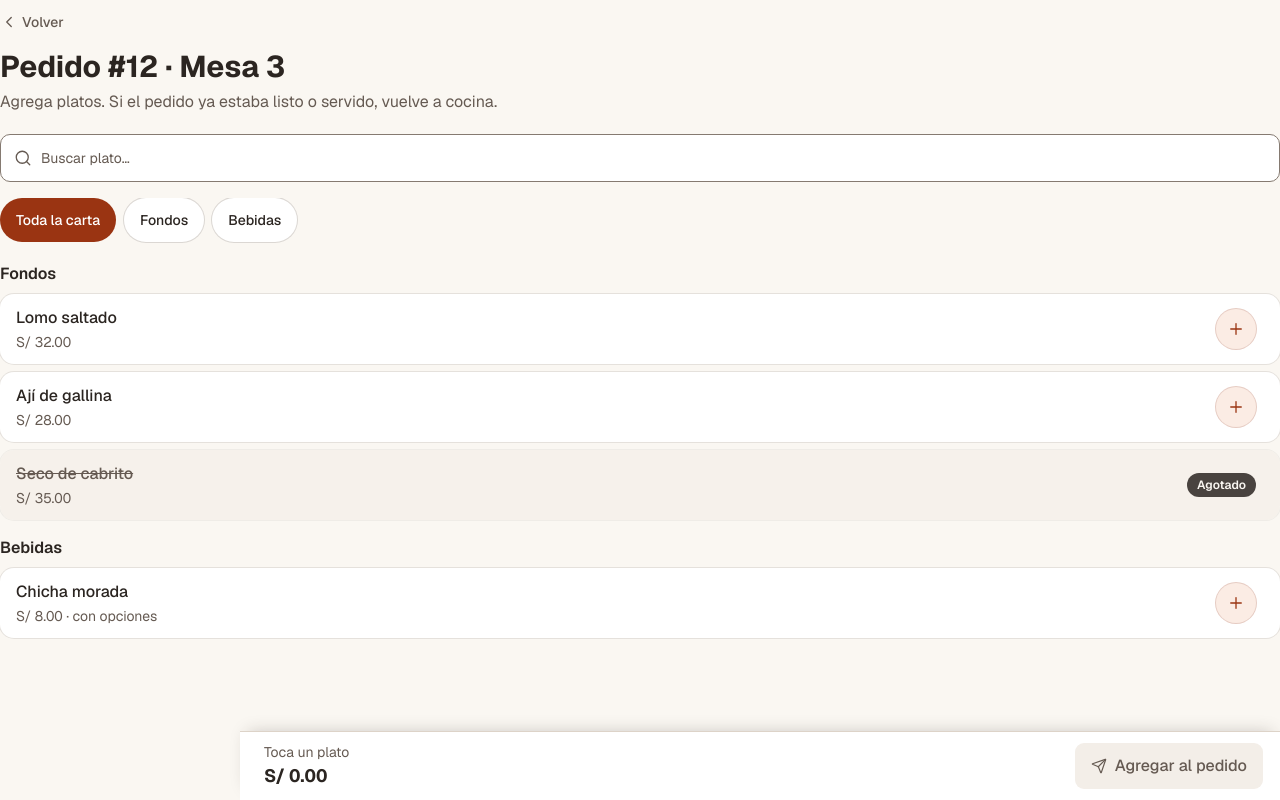
Test: AddItemsView › agrega platos al pedido existente y vuelve a su detalle
Expected: the heading "Pedido #12 · Mesa 3" is shown, [0, 47, 285, 86]
Step 1. Click the button "Ají de gallina S/ 28.00" → (64, 395), box [0, 372, 1272, 442]
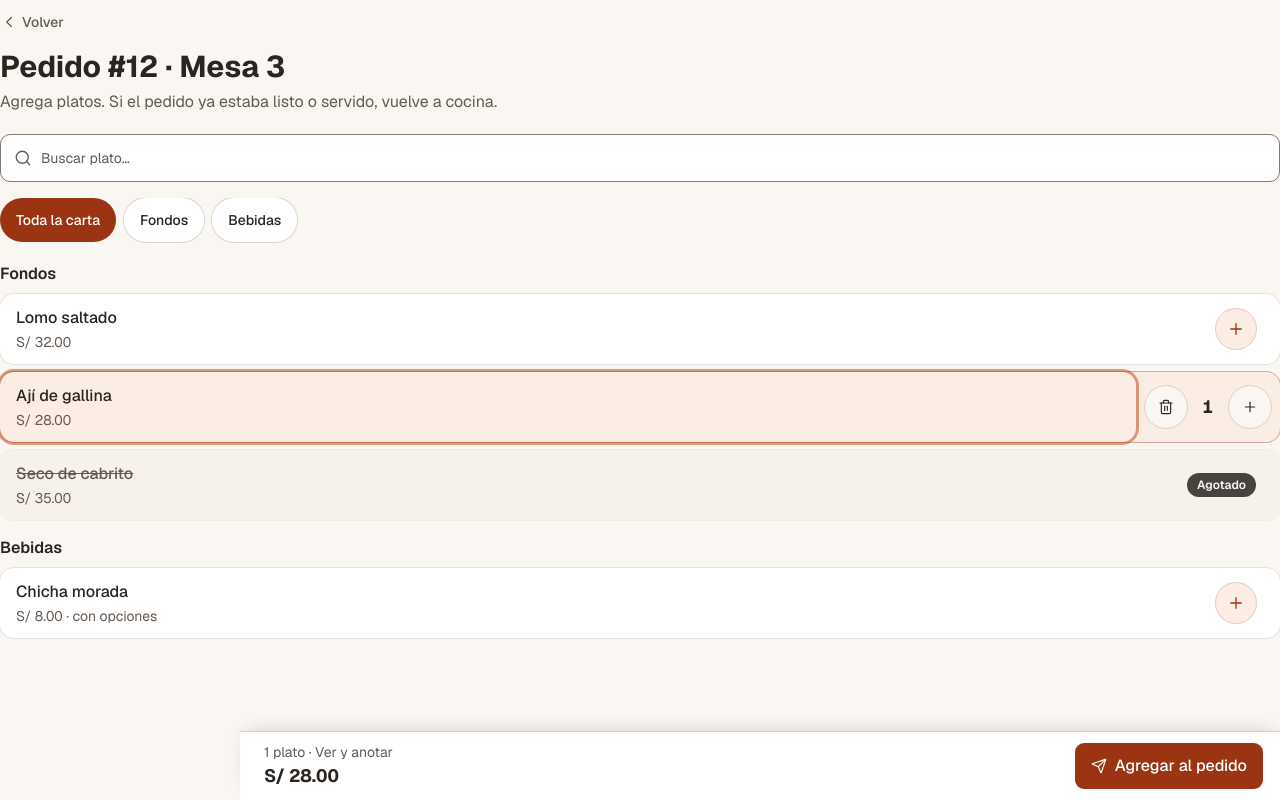
Step 2. Click the button "Agregar al pedido" → (1169, 766), box [1074, 742, 1264, 790]
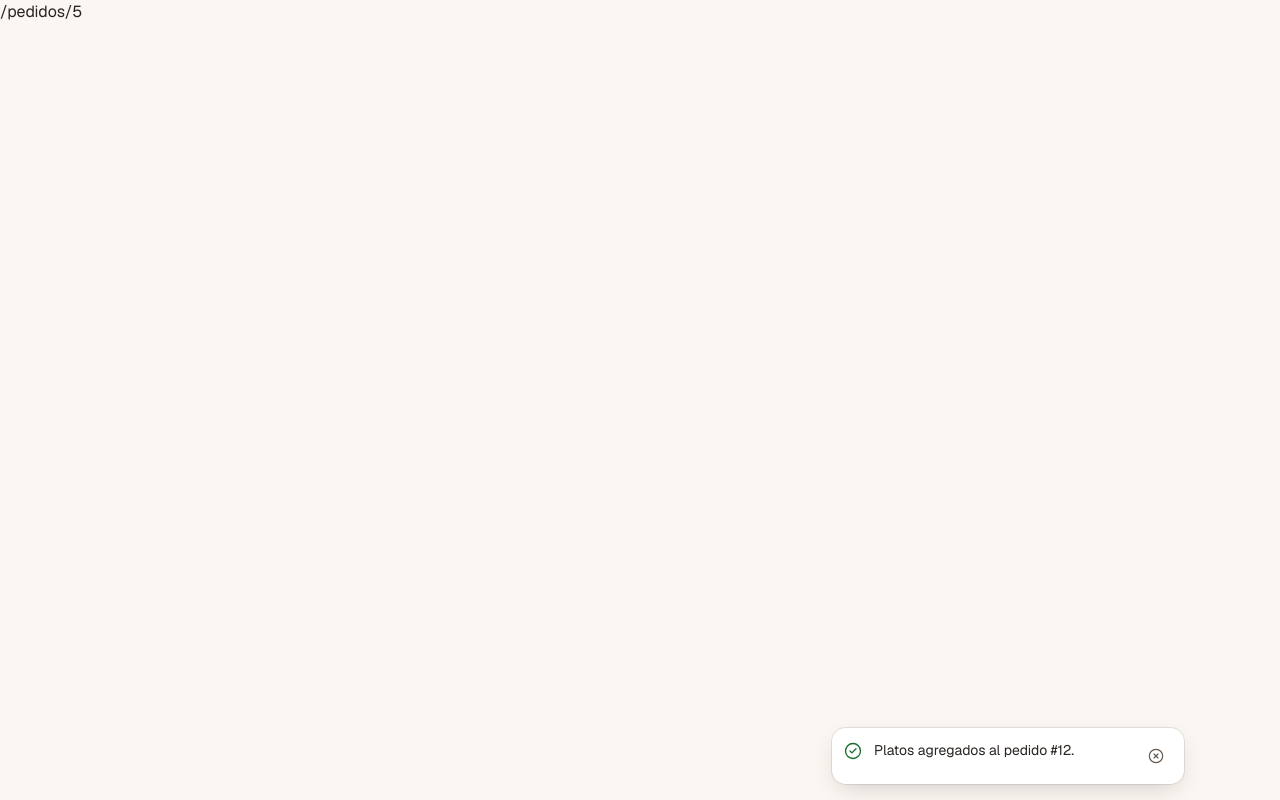
Result: the text "Platos agregados al pedido #12." is shown at [874, 741, 1074, 759]
Result: the text named "Ruta actual" reads "/pedidos/5" at [0, 1, 82, 22]
